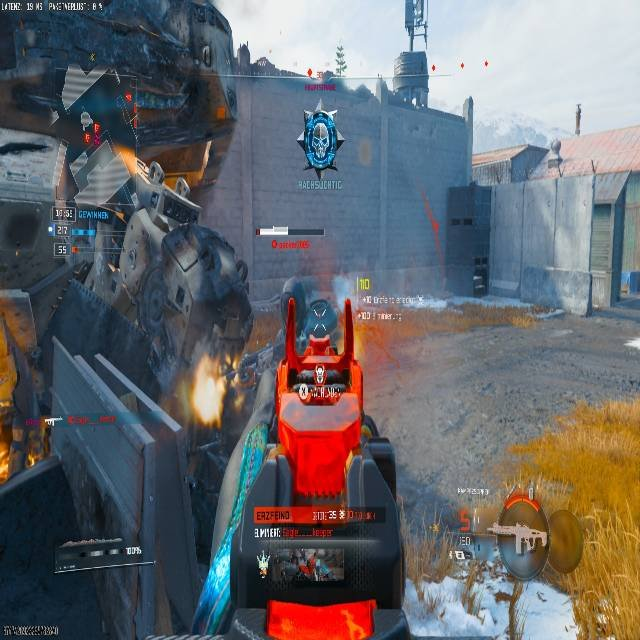player: (299, 105, 345, 179)
